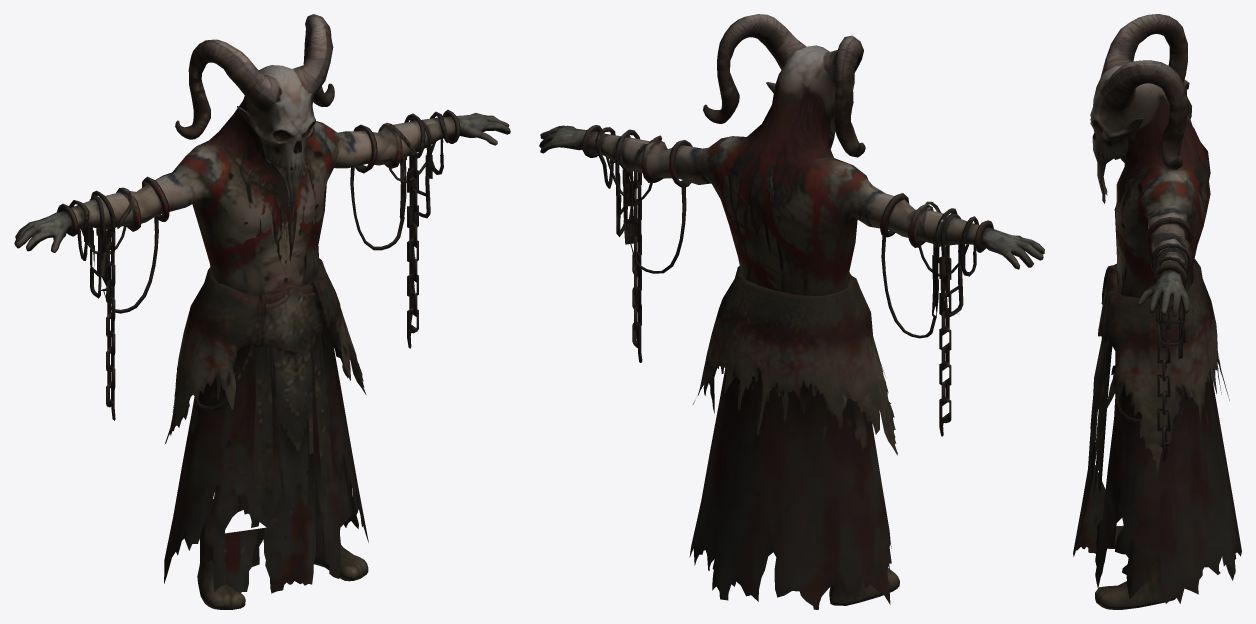
File: source.glb
The picture shows the model from 3 angles, left to right: view 1: azimuth 30°, elevation 25°; view 2: azimuth 150°, elevation 25°; view 3: azimuth 270°, elevation 25°; orthographic projection. The views are drawn at different scales.
Parts seen in each view (by area): view 1: tripo_node_e2d9edc9-a284-40c0-a603-a929041cabe3; view 2: tripo_node_e2d9edc9-a284-40c0-a603-a929041cabe3; view 3: tripo_node_e2d9edc9-a284-40c0-a603-a929041cabe3.
Boxes of the visible parts, x1,y1,x2,y2 form: tripo_node_e2d9edc9-a284-40c0-a603-a929041cabe3: (14, 14, 510, 609); tripo_node_e2d9edc9-a284-40c0-a603-a929041cabe3: (539, 14, 1044, 609); tripo_node_e2d9edc9-a284-40c0-a603-a929041cabe3: (1073, 14, 1241, 609).
Bounding box in the file's own units: 0.9497 × 0.9995 × 0.2866.
Materials: 1 (1 with a texture image).
